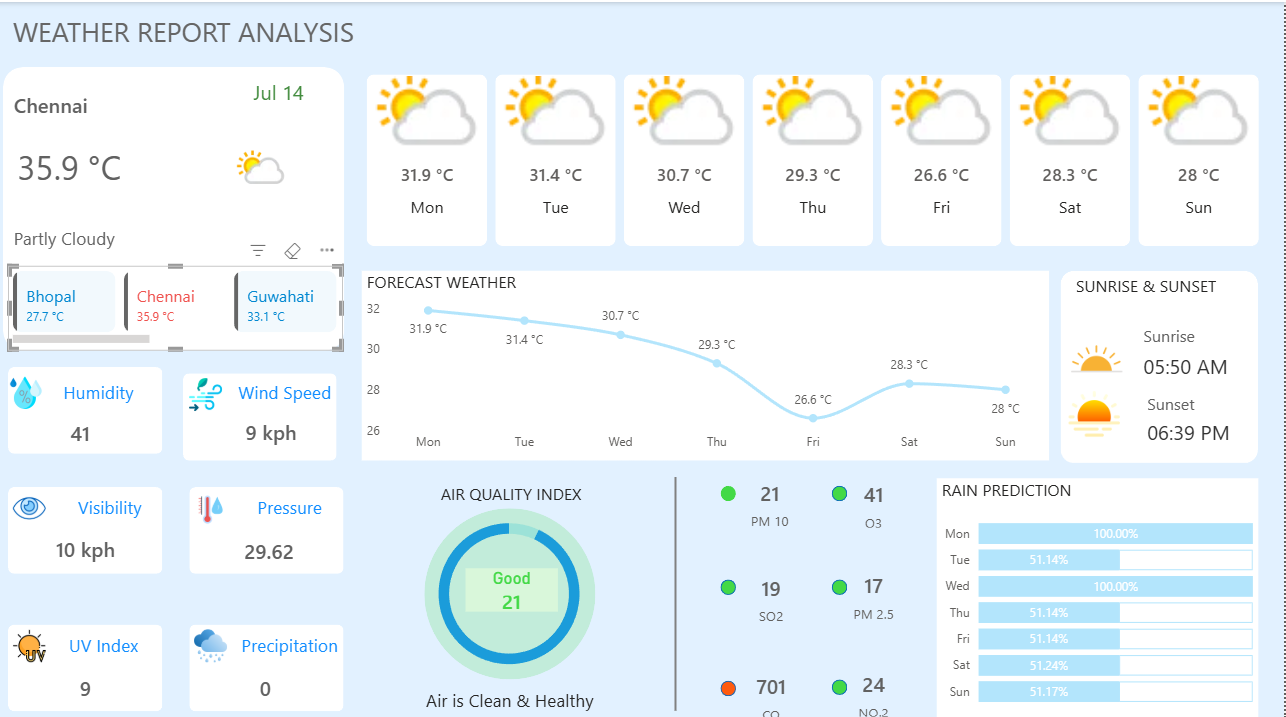

The page's visual inventory and layout, read from the dashboard file:
{"tool":"powerbi","page":{"name":"Page 1","canvas":[1280,720],"ordinal":0},"visuals":[{"type":"shape","box":[5,64.7,339.6,282.4],"z":0},{"type":"advancedSlicerVisual","fields":{"Values":["Location.location.name"]},"box":[10,262.5,333.4,84.6],"z":1000},{"type":"shape","box":[10.2,363.3,153.7,86.4],"z":2000},{"type":"shape","box":[18.7,136.8,156.7,53.5],"z":3000},{"type":"shape","box":[14.9,206.5,320.9,56],"z":4000},{"type":"shape","box":[14.9,79.6,139.3,44.8],"z":5000},{"type":"shape","box":[223.9,75.9,110.7,26.1],"z":6000},{"type":"cardVisual","fields":{"Data":["Min(Current_Data.current.condition.icon)"]},"box":[206.5,123.2,108.2,83.3],"z":7000},{"type":"shape","box":[10.2,482.7,153.7,86.4],"z":8000},{"type":"shape","box":[10.2,619.9,153.7,86.4],"z":9000},{"type":"shape","box":[184.4,369.2,153,87.1],"z":10000},{"type":"shape","box":[189.9,482.7,153.7,86.4],"z":11000},{"type":"shape","box":[189.9,619.9,153.7,86.4],"z":12000},{"type":"image","box":[6.6,368.2,42.5,42],"z":13000},{"type":"image","box":[10.2,482.7,42.5,42.5],"z":14000},{"type":"image","box":[185,369.6,42.5,42.5],"z":15000},{"type":"image","box":[10.2,619.9,42.5,42.5],"z":16000},{"type":"image","box":[189.9,484,42.5,42.5],"z":17000},{"type":"image","box":[189.9,619.9,42.5,42.5],"z":18000},{"type":"shape","box":[47.7,368.2,105.7,40],"z":19000},{"type":"shape","box":[233,368.2,105.7,40],"z":20000},{"type":"shape","box":[58.2,482.7,105.7,39.8],"z":21000},{"type":"shape","box":[238,619.9,105.7,39.8],"z":22000},{"type":"shape","box":[238,482.7,105.7,39.8],"z":23000},{"type":"shape","box":[52.7,619.9,105.7,39.8],"z":24000},{"type":"card","fields":{"Values":["Sum(Current_Data.current.humidity)"]},"box":[33.1,408.7,96.9,42.9],"z":25000},{"type":"card","fields":{"Values":["Sum(Current_Data.current.uv)"]},"box":[38,662.6,96.9,42.9],"z":26000},{"type":"card","fields":{"Values":["Sum(Current_Data.current.pressure_in)"]},"box":[220.9,527.6,96.9,42.9],"z":27000},{"type":"card","fields":{"Values":["Sum(Current_Data.current.precip_in)"]},"box":[217.2,662.6,96.9,42.9],"z":28000},{"type":"card","fields":{"Values":["Measure_Table.Wind Speed"]},"box":[223.8,408.8,96.3,42.5],"z":29000},{"type":"card","fields":{"Values":["Measure_Table.Visiblity"]},"box":[38.8,525.1,97.5,42.5],"z":30000},{"type":"advancedSlicerVisual","fields":{"Values":["Forcast_Days.Day Name"]},"box":[362,67.2,903.1,181.6],"z":31000},{"type":"lineChart","title":"FORECAST WEATHER","fields":{"Category":["Forcast_Days.Day Name"],"Y":["Avg(Forcast_Days.forecast.forecastday.day.avgtemp_c)"]},"box":[362,267.5,684.2,189.1],"z":32000},{"type":"shape","box":[1057.4,267.5,196.5,191.6],"z":33000},{"type":"shape","box":[1072.3,267.5,149.3,29.9],"z":34000},{"type":"shape","box":[1139.2,346.4,100.6,33.1],"z":35000},{"type":"shape","box":[1143.4,410.3,100.6,34.4],"z":36000},{"type":"shape","box":[1139.2,315.7,78.5,30.7],"z":37000},{"type":"shape","box":[1143.4,383.3,78.5,30.7],"z":38000},{"type":"image","box":[1059.5,324.3,67.5,61.4],"z":39000},{"type":"image","box":[1057.4,379.5,67.1,60.6],"z":40000},{"type":"hundredPercentStackedBarChart","title":"RAIN PREDICTION","fields":{"Y":["Measure_Table.Left Value Rain","Sum(Forcast_Days.forecast.forecastday.day.daily_chance_of_rain)"],"Category":["Forcast_Days.Day Name"]},"box":[934.2,473.9,319.7,238.8],"z":41000},{"type":"card","fields":{"Values":["Sum(Current_Data.current.air_quality.co)"]},"box":[727.8,663.8,83.8,55.5],"z":42000},{"type":"card","fields":{"Values":["Sum(Current_Data.current.air_quality.pm10)"]},"box":[726.5,471.7,83.8,55.5],"z":43000},{"type":"card","fields":{"Values":["Sum(Current_Data.current.air_quality.so2)"]},"box":[727.8,565.8,83.8,55.5],"z":44000},{"type":"card","fields":{"Values":["Sum(Current_Data.current.air_quality.no2)"]},"box":[829.6,661.4,83.8,55.5],"z":45000},{"type":"card","fields":{"Values":["Sum(Current_Data.current.air_quality.o3)"]},"box":[829.7,472.9,83.8,55.5],"z":46000},{"type":"card","fields":{"Values":["Sum(Current_Data.current.air_quality.pm2_5)"]},"box":[829.6,563.4,83.8,55.5],"z":47000},{"type":"shape","box":[718.8,482,15.5,15.5],"z":48000},{"type":"shape","box":[718.8,574.8,15.5,15.5],"z":48001},{"type":"shape","box":[718.8,675.4,15.5,15.5],"z":48002},{"type":"shape","box":[829.7,482,15.5,15.5],"z":48003},{"type":"shape","box":[829.7,574.8,15.5,15.5],"z":48004},{"type":"shape","box":[829.7,674.1,15.5,15.5],"z":48005},{"type":"shape","box":[650.6,472.7,47.3,232.6],"z":48006},{"type":"card","fields":{"Values":["Sum(Current_Data.current.air_quality.pm10)"]},"box":[465.2,563.5,92.1,43.5],"z":48007},{"type":"donutChart","fields":{"Y":["Sum(Current_Data.current.air_quality.pm10)","Measure_Table.Left Value PM 10"]},"box":[408,496.3,201.5,185.3],"z":48008},{"type":"shape","box":[424.2,503.8,170.4,170.4],"z":48009},{"type":"shape","box":[379.4,469,262.5,39.8],"z":48010},{"type":"shape","box":[362,674.2,294.8,39.8],"z":48011},{"type":"textbox","box":[10,6.2,457.8,58.5],"z":48012}]}

Visuals, with their boxes in screenshot pixels (x1, y1, x2, y2), scaled from the page's 1280x720 canvas onto the 1286x717 screenshot:
shape: (5, 64, 346, 346)
advancedSlicerVisual - Location.location.name: (10, 261, 345, 346)
shape: (10, 362, 165, 448)
shape: (19, 136, 176, 190)
shape: (15, 206, 337, 261)
shape: (15, 79, 155, 124)
shape: (225, 76, 336, 102)
cardVisual - Min(Current_Data.current.condition.icon): (207, 123, 316, 206)
shape: (10, 481, 165, 567)
shape: (10, 617, 165, 703)
shape: (185, 368, 339, 454)
shape: (191, 481, 345, 567)
shape: (191, 617, 345, 703)
image: (7, 367, 49, 408)
image: (10, 481, 53, 523)
image: (186, 368, 229, 410)
image: (10, 617, 53, 660)
image: (191, 482, 233, 524)
image: (191, 617, 233, 660)
shape: (48, 367, 154, 406)
shape: (234, 367, 340, 406)
shape: (58, 481, 165, 520)
shape: (239, 617, 345, 657)
shape: (239, 481, 345, 520)
shape: (53, 617, 159, 657)
card - Sum(Current_Data.current.humidity): (33, 407, 131, 450)
card - Sum(Current_Data.current.uv): (38, 660, 136, 703)
card - Sum(Current_Data.current.pressure_in): (222, 525, 319, 568)
card - Sum(Current_Data.current.precip_in): (218, 660, 316, 703)
card - Measure_Table.Wind Speed: (225, 407, 322, 449)
card - Measure_Table.Visiblity: (39, 523, 137, 565)
advancedSlicerVisual - Forcast_Days.Day Name: (364, 67, 1271, 248)
"FORECAST WEATHER" lineChart: (364, 266, 1051, 455)
shape: (1062, 266, 1260, 457)
shape: (1077, 266, 1227, 296)
shape: (1145, 345, 1246, 378)
shape: (1149, 409, 1250, 443)
shape: (1145, 314, 1223, 345)
shape: (1149, 382, 1228, 412)
image: (1064, 323, 1132, 384)
image: (1062, 378, 1130, 438)
"RAIN PREDICTION" hundredPercentStackedBarChart: (939, 472, 1260, 710)
card - Sum(Current_Data.current.air_quality.co): (731, 661, 815, 716)
card - Sum(Current_Data.current.air_quality.pm10): (730, 470, 814, 525)
card - Sum(Current_Data.current.air_quality.so2): (731, 563, 815, 619)
card - Sum(Current_Data.current.air_quality.no2): (833, 659, 918, 714)
card - Sum(Current_Data.current.air_quality.o3): (834, 471, 918, 526)
card - Sum(Current_Data.current.air_quality.pm2_5): (833, 561, 918, 616)
shape: (722, 480, 738, 495)
shape: (722, 572, 738, 588)
shape: (722, 673, 738, 688)
shape: (834, 480, 849, 495)
shape: (834, 572, 849, 588)
shape: (834, 671, 849, 687)
shape: (654, 471, 701, 702)
card - Sum(Current_Data.current.air_quality.pm10): (467, 561, 560, 604)
donutChart - Sum(Current_Data.current.air_quality.pm10) x Measure_Table.Left Value PM 10: (410, 494, 612, 679)
shape: (426, 502, 597, 671)
shape: (381, 467, 645, 507)
shape: (364, 671, 660, 711)
textbox: (10, 6, 470, 64)
